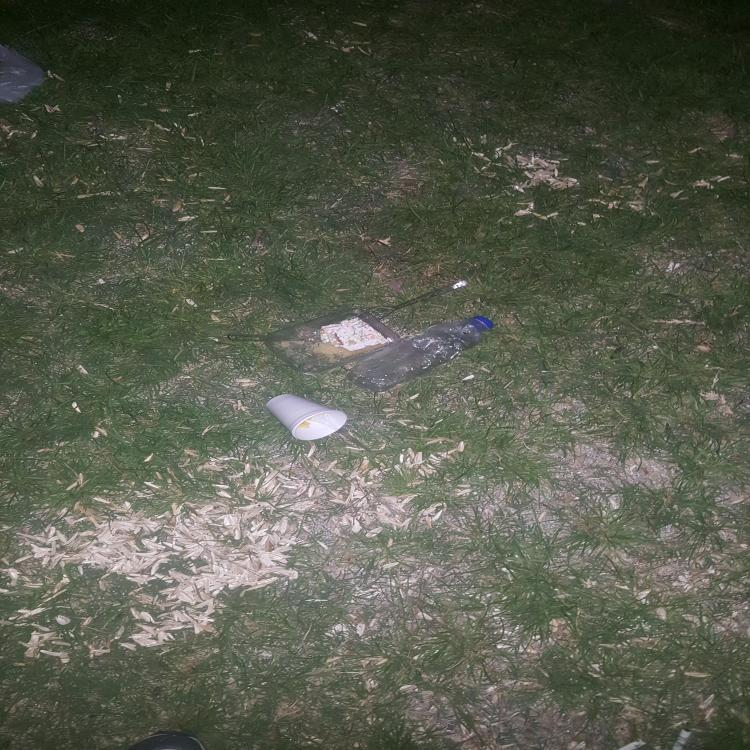Clear plastic bottle: (345, 316, 494, 392)
Plastic bottle cap: (472, 316, 494, 330)
Plastic film: (0, 45, 44, 104)
